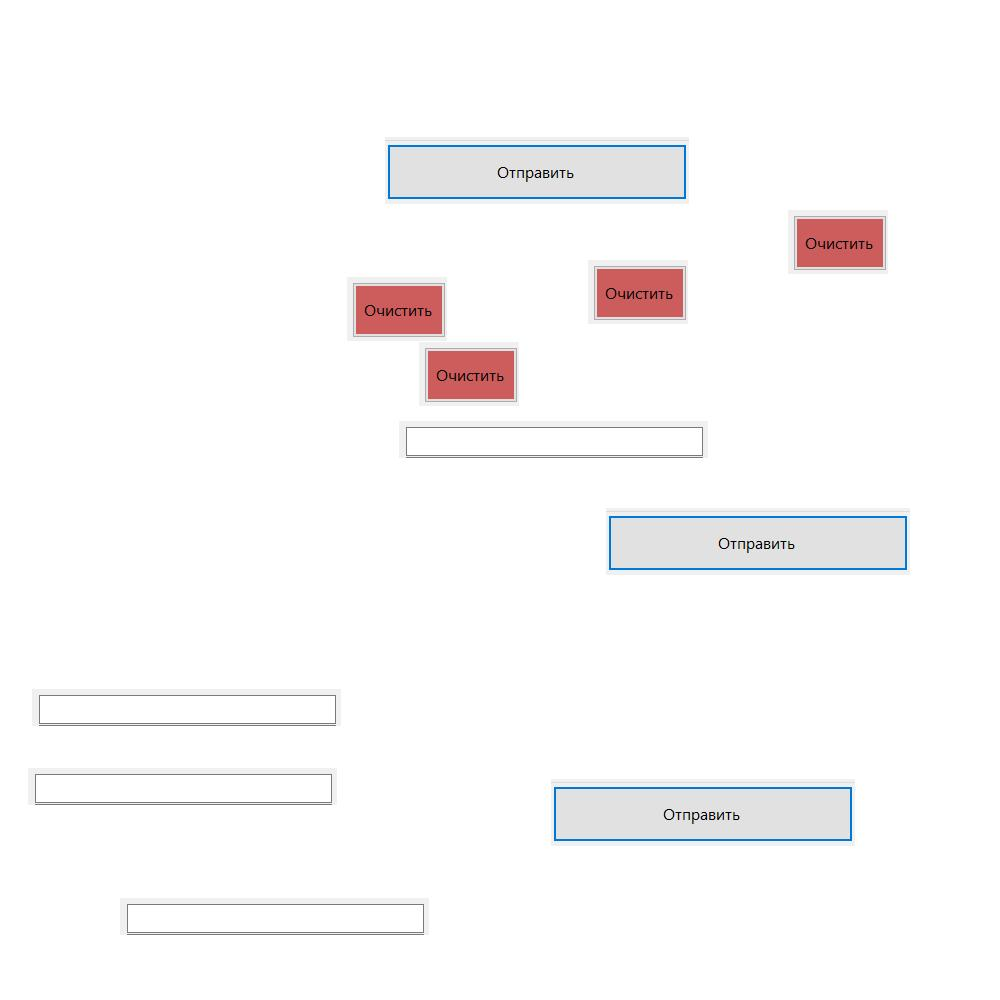Button: (606, 508, 910, 575), (551, 779, 855, 846), (385, 137, 689, 204), (588, 260, 688, 324), (419, 342, 519, 406), (347, 277, 447, 341), (788, 210, 888, 274)
EditText-: (32, 689, 341, 726), (28, 768, 337, 805), (399, 421, 708, 458), (120, 898, 429, 935)
